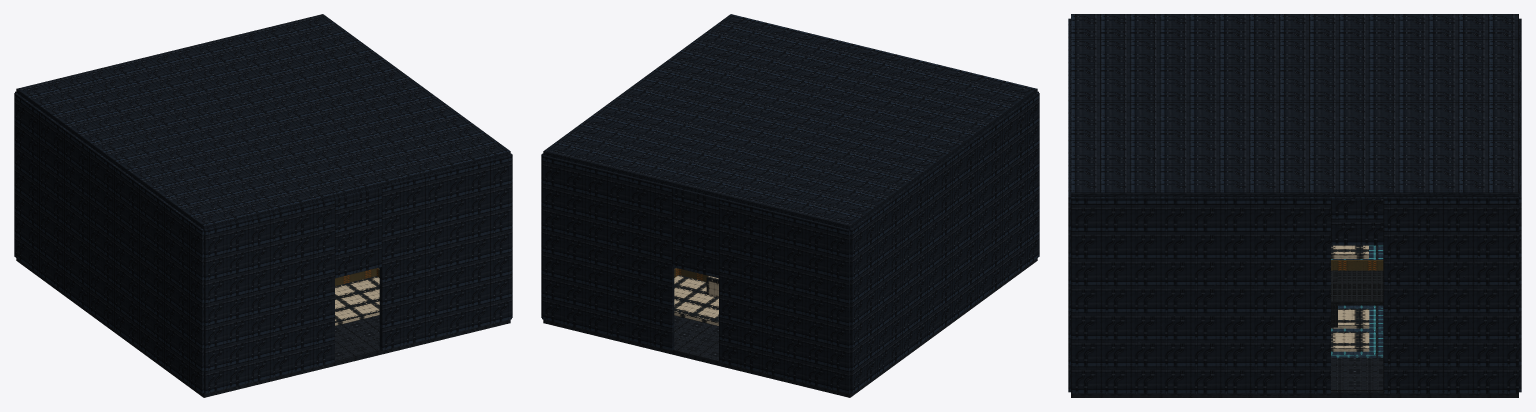
File: rdx_electric_transformer_undercroft.glb
3 renders of one model, left to right at view 1: azimuth 30°, elevation 25°; view 2: azimuth 150°, elevation 25°; view 3: azimuth 270°, elevation 25°, orthographic. The views are drawn at different scales.
Parts seen in each view (by area): view 1: SHELL_CEILING, SHELL_WALL_WEST_RIGHT, SHELL_WALL_SOUTH_RIGHT, SHELL_WALL_SOUTH_0_LEFT, SHELL_DOOR_HEADER_SOUTH_0, SHELL_FLOOR_BOTTOM, WALK_ENTRY_INSULATED_DECK; view 2: SHELL_CEILING, SHELL_WALL_WEST_RIGHT, SHELL_WALL_NORTH_RIGHT, SHELL_WALL_NORTH_0_LEFT, SHELL_DOOR_HEADER_NORTH_0, SHELL_FLOOR_BOTTOM, WALK_NORTH_SWITCH_DECK; view 3: SHELL_CEILING, SHELL_WALL_EAST_RIGHT, SHELL_WALL_EAST_0_LEFT, SHELL_FLOOR_BOTTOM, SHELL_DOOR_HEADER_EAST_0, WALK_UPPER_EAST_GALLERY, WALK_INSULATED_PAD_07, SHELL_WALL_NORTH_RIGHT, SHELL_WALL_SOUTH_RIGHT, WALK_INSULATED_PAD_06, RAIL_WALK_UPPER_EAST_GALLERY_W, WALK_TIMING_REWARD_PAD_00 (+1 smaller).
Part boxes in pixels (box(x1,y1,x2,y2)): SHELL_CEILING: box(16, 14, 510, 229); SHELL_WALL_WEST_RIGHT: box(14, 92, 203, 393); SHELL_WALL_SOUTH_RIGHT: box(379, 155, 511, 350); SHELL_WALL_SOUTH_0_LEFT: box(204, 198, 334, 393); SHELL_DOOR_HEADER_SOUTH_0: box(334, 187, 381, 278); SHELL_FLOOR_BOTTOM: box(16, 258, 510, 397); WALK_ENTRY_INSULATED_DECK: box(335, 276, 379, 325); SHELL_CEILING: box(543, 14, 1037, 229); SHELL_WALL_WEST_RIGHT: box(850, 92, 1039, 393); SHELL_WALL_NORTH_RIGHT: box(542, 155, 674, 350); SHELL_WALL_NORTH_0_LEFT: box(719, 198, 849, 393); SHELL_DOOR_HEADER_NORTH_0: box(672, 187, 719, 278); SHELL_FLOOR_BOTTOM: box(543, 258, 1037, 397); WALK_NORTH_SWITCH_DECK: box(674, 275, 718, 326); SHELL_CEILING: box(1071, 14, 1518, 197); SHELL_WALL_EAST_RIGHT: box(1071, 197, 1330, 393); SHELL_WALL_EAST_0_LEFT: box(1383, 197, 1518, 393); SHELL_FLOOR_BOTTOM: box(1071, 245, 1518, 397); SHELL_DOOR_HEADER_EAST_0: box(1331, 197, 1383, 245); WALK_UPPER_EAST_GALLERY: box(1331, 270, 1383, 305); WALK_INSULATED_PAD_07: box(1331, 331, 1369, 351); SHELL_WALL_NORTH_RIGHT: box(1519, 121, 1521, 392); SHELL_WALL_SOUTH_RIGHT: box(1068, 121, 1070, 392); WALK_INSULATED_PAD_06: box(1331, 308, 1369, 328); RAIL_WALK_UPPER_EAST_GALLERY_W: box(1331, 260, 1383, 270); WALK_TIMING_REWARD_PAD_00: box(1331, 245, 1368, 258).
Bounding box in the file's own units: 34.45 × 18.2 × 36.45.
Materials: 8 (8 with a texture image).
